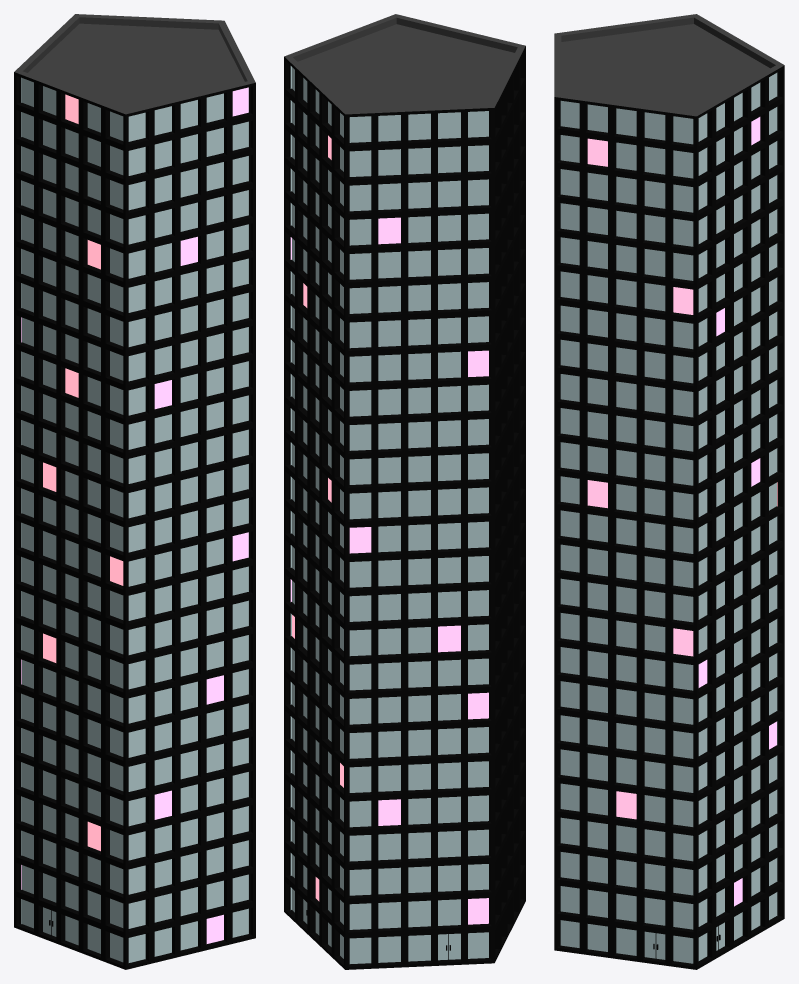
File: building6.fbx
3 views of the same model, side by side, from view 1: azimuth 30°, elevation 25°; view 2: azimuth 150°, elevation 25°; view 3: azimuth 270°, elevation 25° (orthographic).
Visible parts, largest first — view 1: Cube.036; view 2: Cube.036; view 3: Cube.036.
Part boxes in pixels (x1,y1,x2,y2): Cube.036: (14, 14, 255, 969); Cube.036: (284, 14, 525, 969); Cube.036: (554, 14, 784, 969).
Size of the model in its own units: 3.8 by 14.77 by 3.62.
